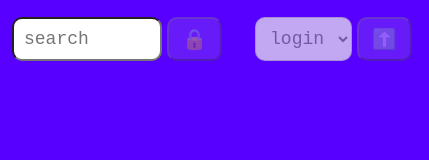
Test: Checking searching mechanism › Submit button should be enabled after filling some value in search field
Type "cesar" into the field with test id "search" showing "search". click: (87, 39)
box: [12,17,162,61]
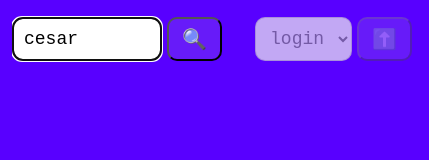
Now the button with test id "submit" is enabled, box [167,17,222,61]
